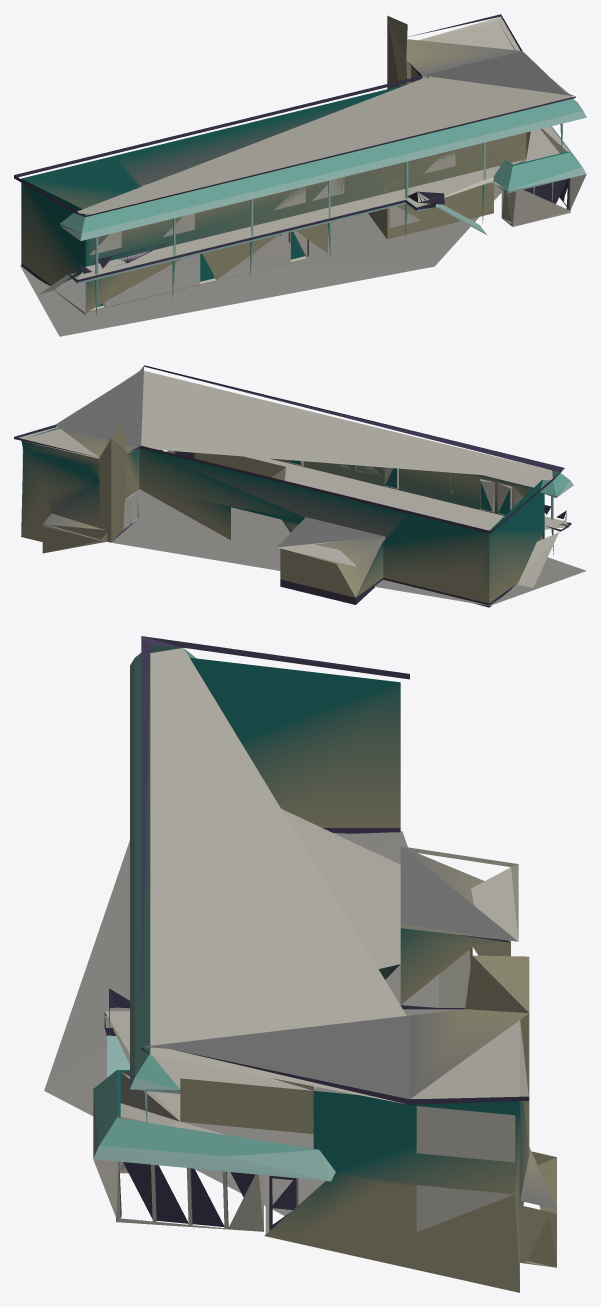
File: roadside-motel.lod2.glb
3 views of the same model, one above another, from view 1: azimuth 30°, elevation 25°; view 2: azimuth 150°, elevation 25°; view 3: azimuth 270°, elevation 25° (orthographic). The views are drawn at different scales.
Visible parts, largest first — view 1: Object_4; view 2: Object_4; view 3: Object_4.
Part boxes in pixels (x1,y1,x2,y2): Object_4: (14, 14, 586, 336); Object_4: (14, 365, 586, 607); Object_4: (44, 636, 556, 1292).
Bounding box in the file's own units: 36.46 × 9.34 × 17.02.
